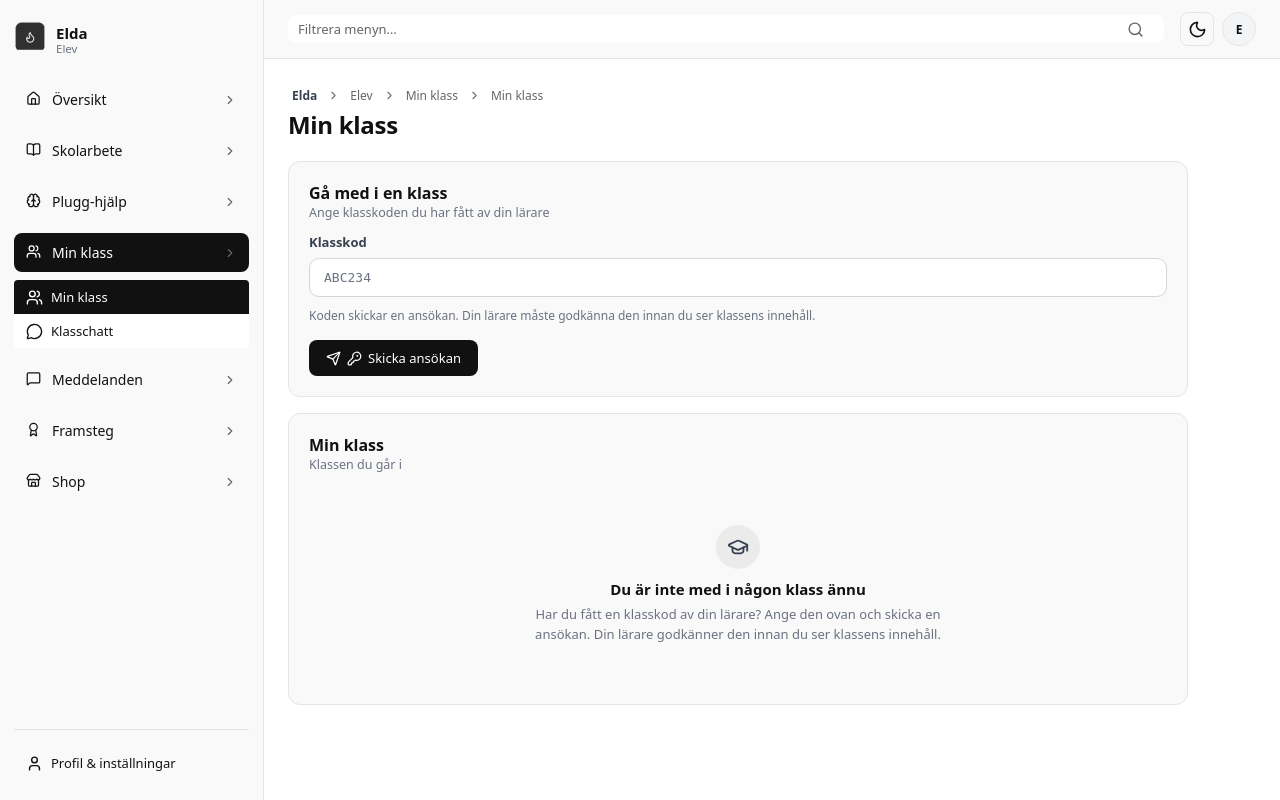
klassansökan med klasskod › visar serverns fel när koden inte finns
The width and height of the screenshot is (1280, 800).
Type "ZZZ999" into the field labelled "Klasskod" at (738, 278), box [309,258,1167,297]
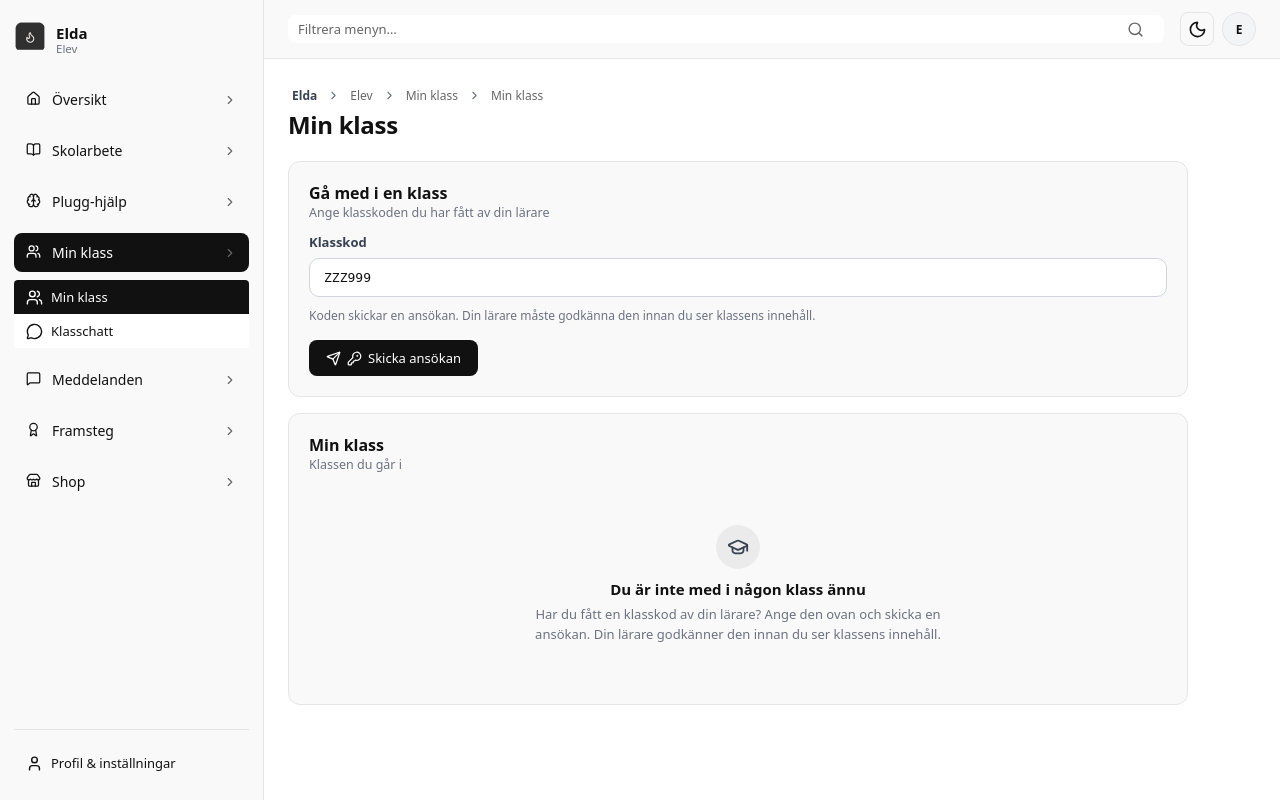
Click the button "Skicka ansökan" at (394, 358), box [309,340,478,376]
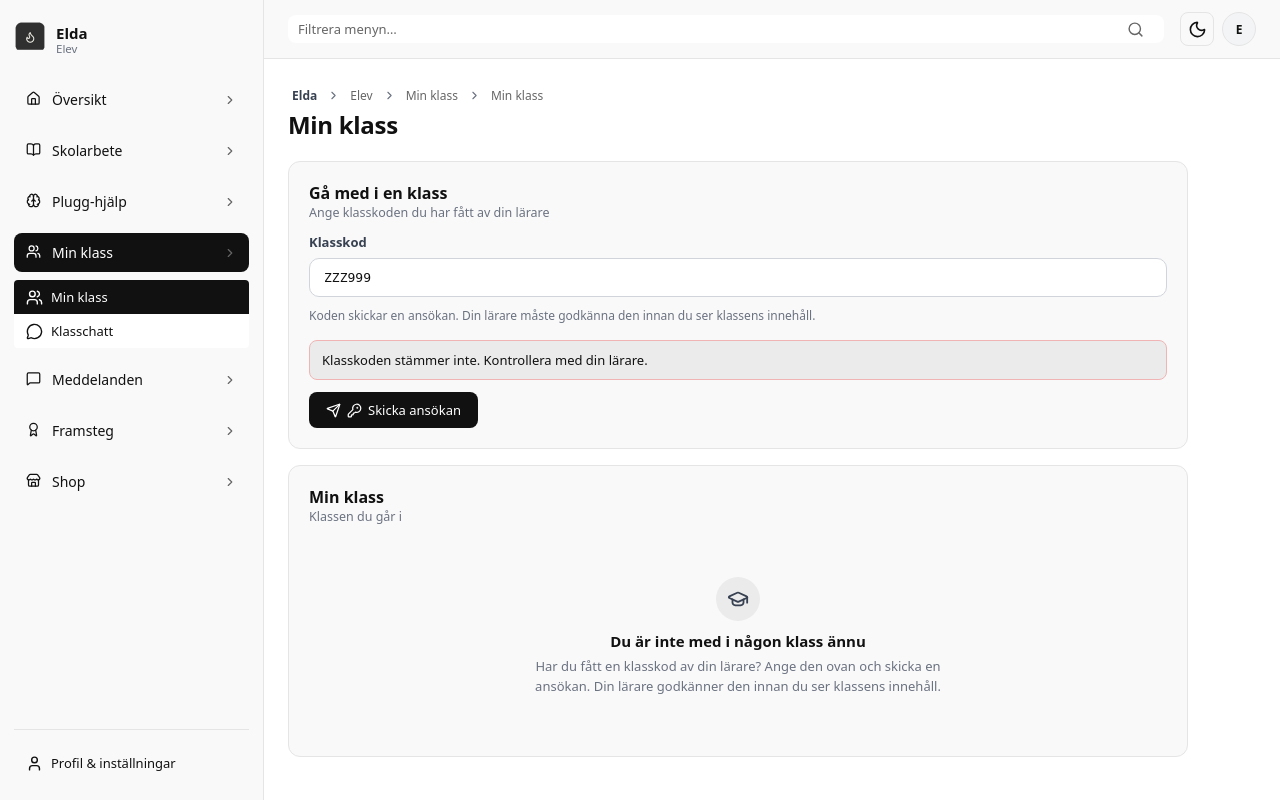
Now the text "Klasskoden stämmer inte. Kontrollera med din lärare." is shown, box [309,340,1167,380]
